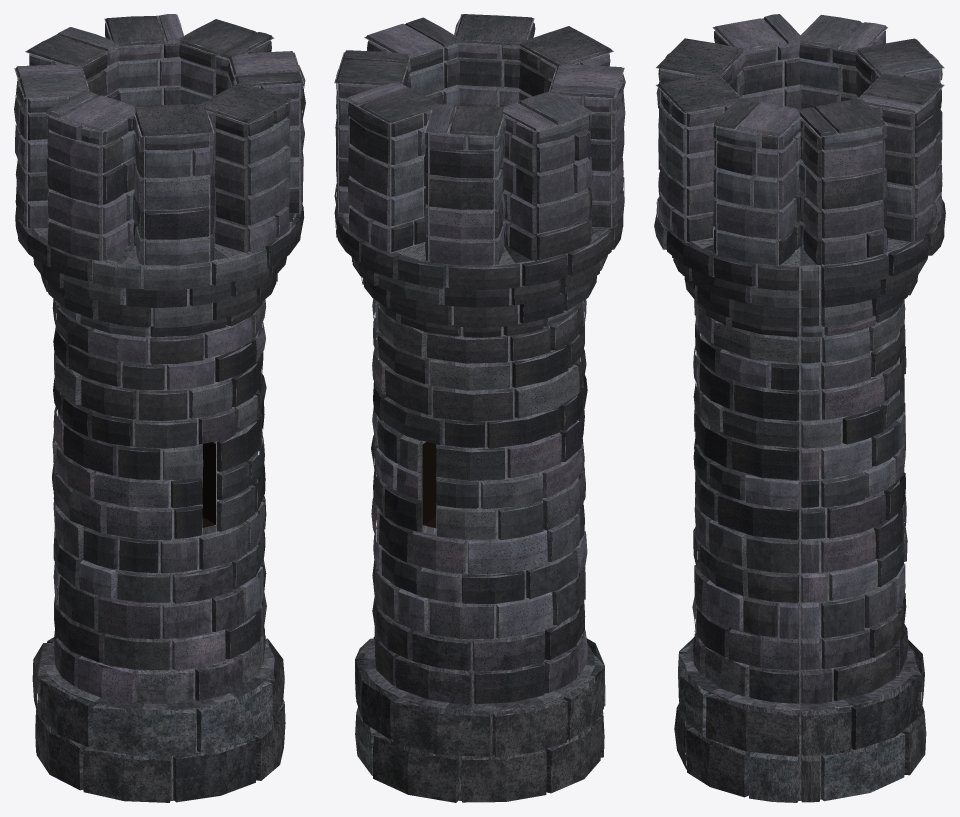
Rendered from fort_turret.glb.
3 renders of one model, left to right at view 1: azimuth 30°, elevation 25°; view 2: azimuth 150°, elevation 25°; view 3: azimuth 270°, elevation 25°, orthographic.
Parts seen in each view (by area): view 1: fort_turret; view 2: fort_turret; view 3: fort_turret.
Boxes of the visible parts, bbox=[...] form: fort_turret: bbox=[14, 14, 305, 802]; fort_turret: bbox=[334, 14, 625, 802]; fort_turret: bbox=[654, 14, 945, 802].
Size of the model in its own units: 2.61 by 6.75 by 2.62.
Materials: 3 (3 with a texture image).
